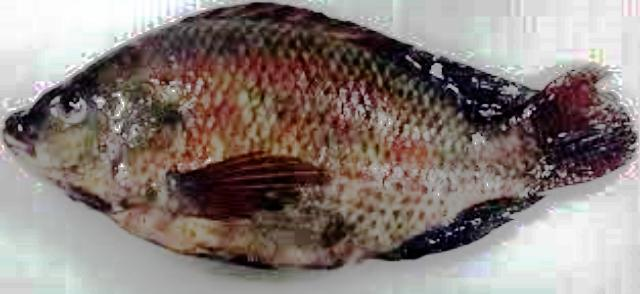Tilapia Lake Virus -TiLV-: (5, 2, 638, 267), (4, 2, 634, 266)
